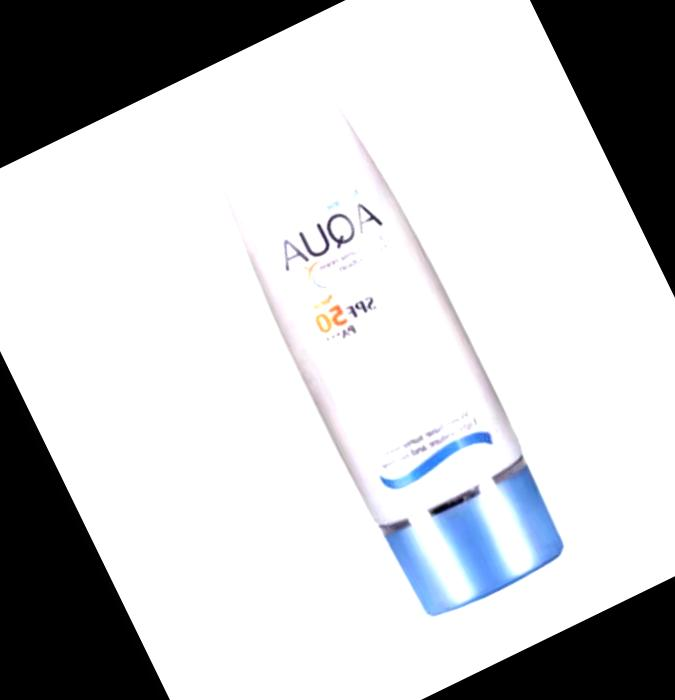cosmetic: (183, 72, 573, 628)
